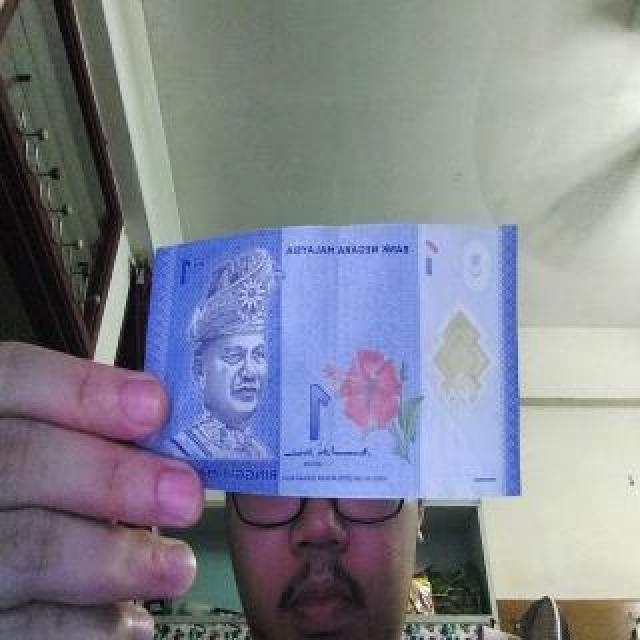1 Ringgit: (126, 222, 521, 502)
